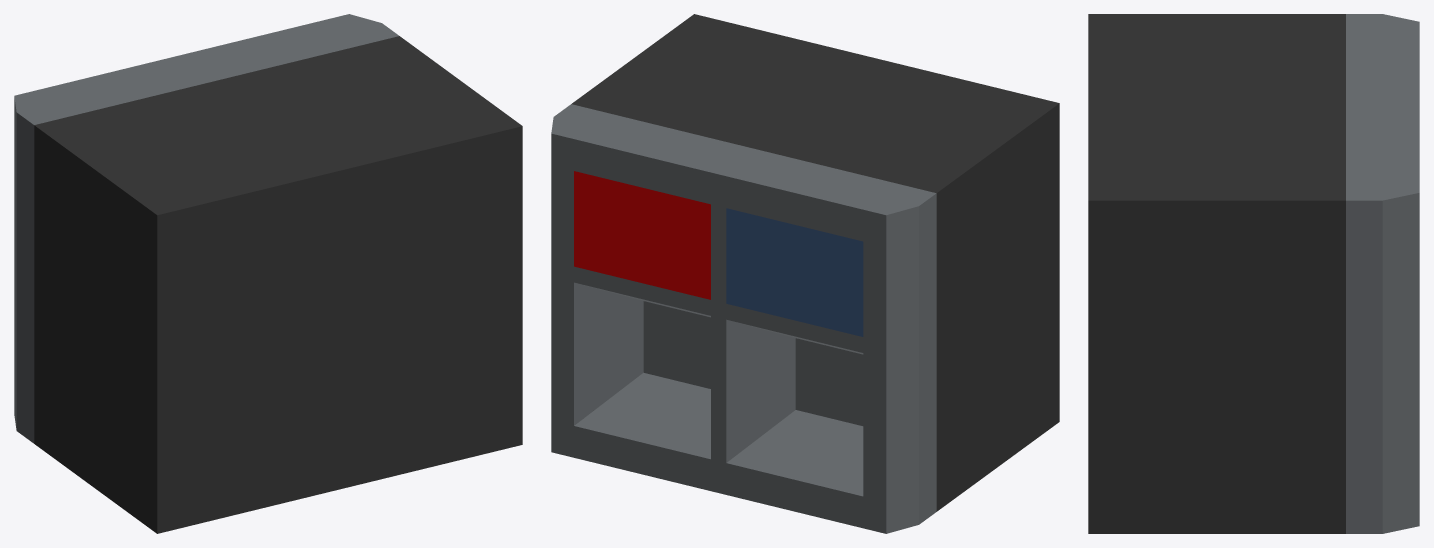
The model's file is DarkGreyMetalMechSmallBattery1.fbx.
The picture shows the model from 3 angles, left to right: view 1: azimuth 30°, elevation 25°; view 2: azimuth 150°, elevation 25°; view 3: azimuth 270°, elevation 25°; orthographic projection. The views are drawn at different scales.
Visible parts, largest first — view 1: DarkGreyMetalMechSmallBattery1, BatteryFace, BatteryFace_001, BatteryFace_004; view 2: DarkGreyMetalMechSmallBattery1, BatteryFace, BatteryFace_004, BatteryFace_003, BatteryFace_001, BatteryFace_002; view 3: DarkGreyMetalMechSmallBattery1, BatteryFace, BatteryFace_003, BatteryFace_004.
Boxes of the visible parts, x1,y1,x2,y2 form: DarkGreyMetalMechSmallBattery1: (34, 36, 522, 533); BatteryFace: (14, 14, 398, 268); BatteryFace_001: (14, 241, 34, 411); BatteryFace_004: (14, 384, 34, 443); DarkGreyMetalMechSmallBattery1: (571, 14, 1059, 511); BatteryFace: (551, 104, 936, 358); BatteryFace_004: (551, 372, 936, 533); BatteryFace_003: (551, 277, 643, 425); BatteryFace_001: (863, 337, 936, 501); BatteryFace_002: (711, 316, 795, 462); DarkGreyMetalMechSmallBattery1: (1088, 14, 1345, 533); BatteryFace: (1346, 14, 1419, 350); BatteryFace_003: (1346, 343, 1419, 500); BatteryFace_004: (1346, 493, 1419, 533).
Size of the model in its own units: 120 by 100 by 90.
